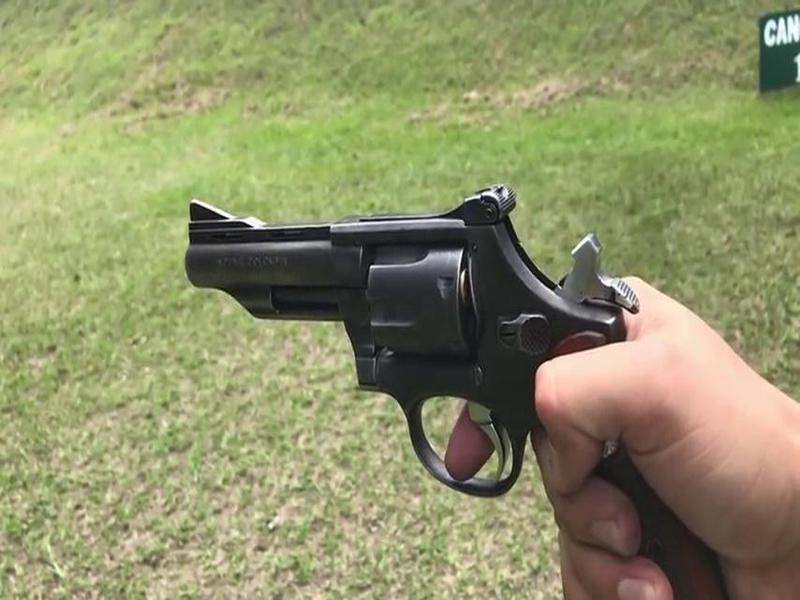Revolver: (180, 170, 688, 523)
